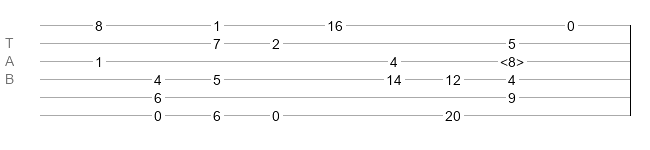0: (154, 108, 162, 118), (272, 108, 280, 118), (567, 18, 575, 28)
1: (95, 54, 103, 64), (213, 18, 221, 28)
12: (445, 72, 461, 82)
14: (386, 72, 402, 82)
16: (327, 18, 343, 28)
2: (272, 36, 280, 46)
20: (445, 108, 461, 118)
4: (154, 72, 162, 82), (390, 54, 398, 64), (508, 72, 516, 82)
5: (213, 72, 221, 82), (508, 36, 516, 46)
6: (154, 90, 162, 100), (213, 108, 221, 118)
7: (213, 36, 221, 46)
8: (95, 18, 103, 28)
9: (508, 90, 516, 100)
harmonic: (500, 54, 524, 64)
